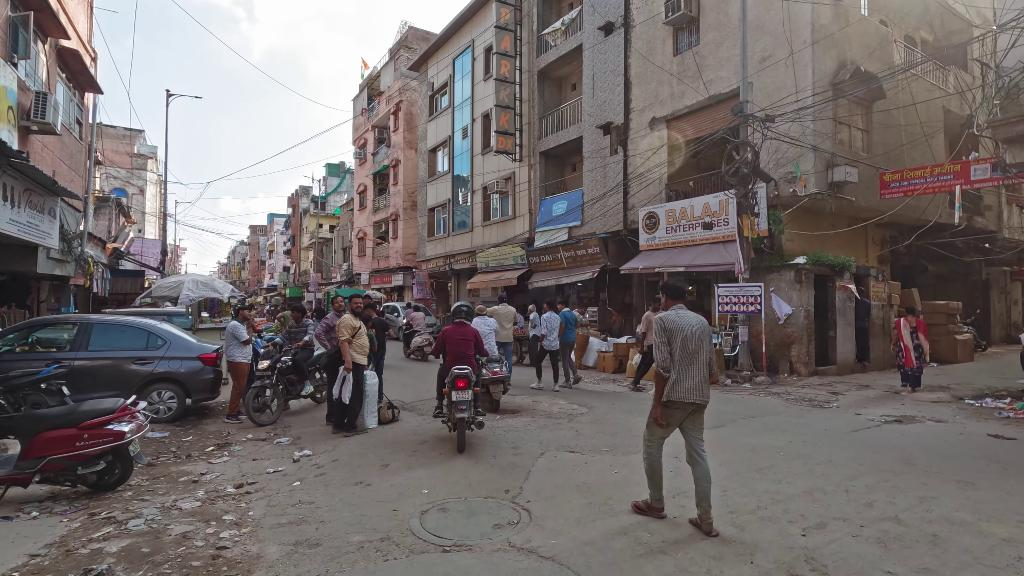garbage: (983, 396, 1012, 408), (207, 455, 232, 465), (145, 430, 171, 439), (273, 436, 294, 446), (218, 529, 239, 539), (294, 449, 314, 458), (994, 410, 1011, 419), (633, 352, 642, 368)
